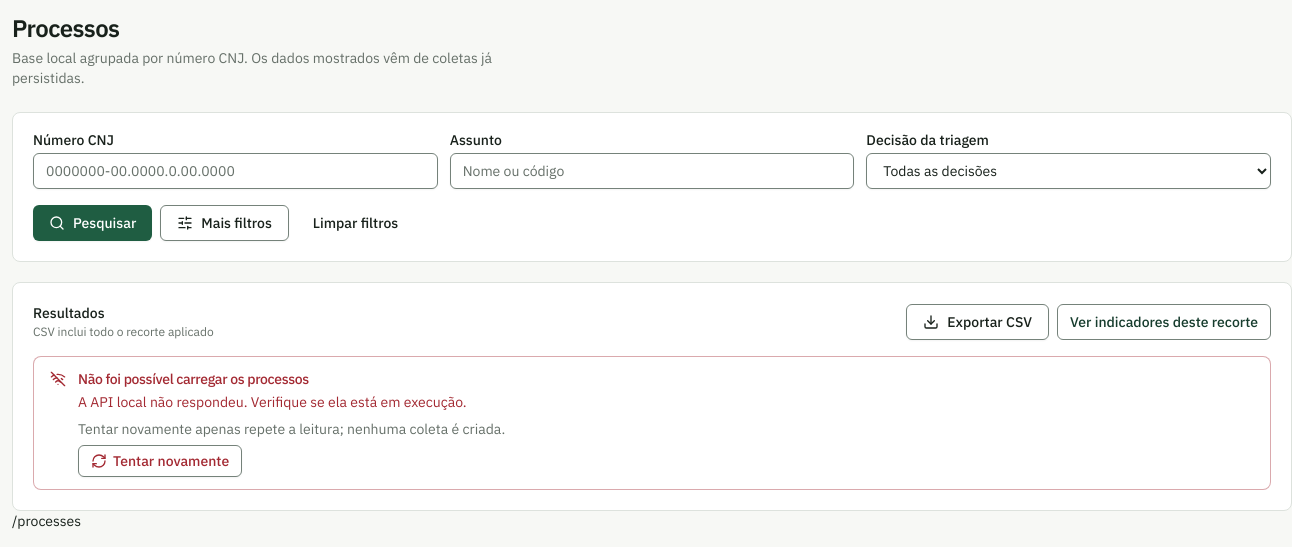
Test: ProcessesPage › shows a read failure with retry instead of an empty list
Expected: the text "Não foi possível carregar os processos" is shown, x1=78 y1=370 x2=309 y2=388
What coordinates should you click on to do the following:
click the button "Tentar novamente"
I would click on:
 (160, 460)
Its box is x1=78 y1=444 x2=242 y2=476.
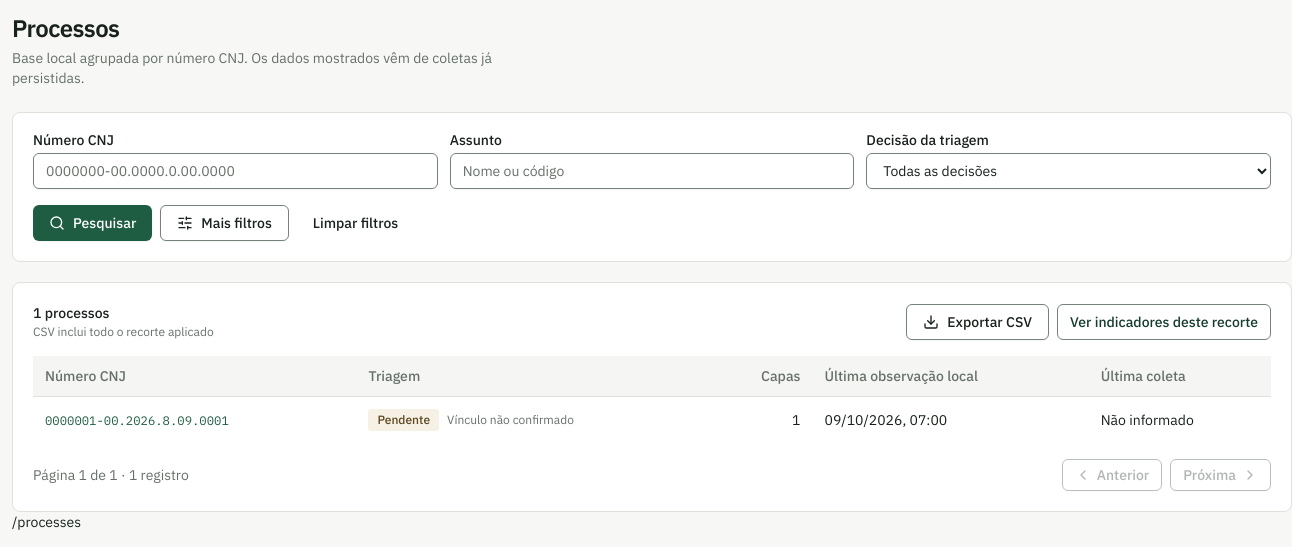
Now the link "0000001-00.2026.8.09.0001" is shown, box x1=45 y1=412 x2=229 y2=428
